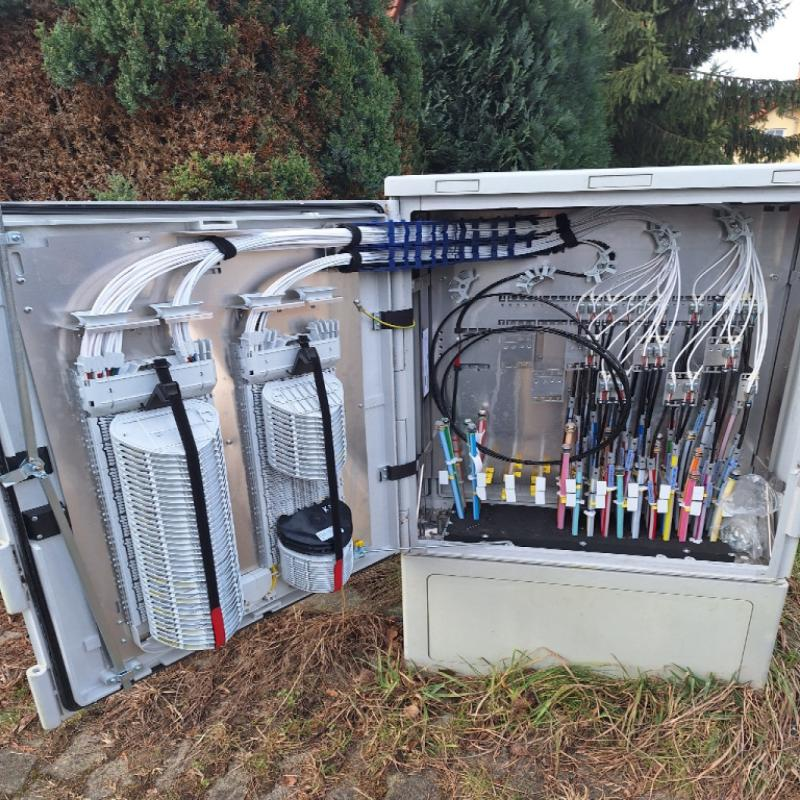NT-Gehause: (0, 163, 800, 725)
Spleiskassetten: (71, 299, 257, 655), (227, 283, 358, 595)
